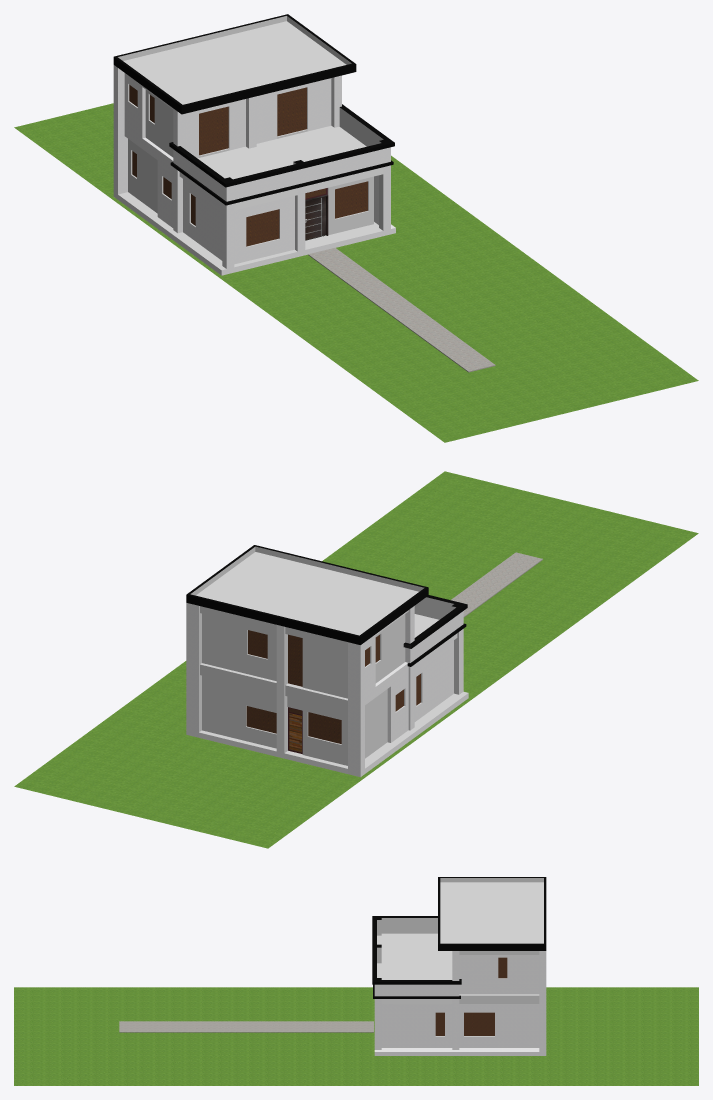
The model's file is abc.glb.
3 renders of one model, top to bottom at view 1: azimuth 30°, elevation 25°; view 2: azimuth 150°, elevation 25°; view 3: azimuth 270°, elevation 25°, orthographic. The views are drawn at different scales.
Parts seen in each view (by area): view 1: 3DGeom-9, 3DGeom-3, 3DGeom-1, 3DGeom-6, 3DGeom-4, 3DGeom-10, 3DGeom-2, 3DGeom-20; view 2: 3DGeom-9, 3DGeom-3, 3DGeom-1, 3DGeom-6, 3DGeom-4, 3DGeom-2, 3DGeom-10; view 3: 3DGeom-9, 3DGeom-1, 3DGeom-3, 3DGeom-10, 3DGeom-6, 3DGeom-4, 3DGeom-2.
Boxes of the visible parts, box(x1,y1,x2,y2) form: 3DGeom-9: box(14, 103, 698, 442); 3DGeom-3: box(118, 16, 383, 270); 3DGeom-1: box(113, 65, 395, 275); 3DGeom-6: box(113, 14, 394, 205); 3DGeom-4: box(129, 85, 367, 246); 3DGeom-10: box(308, 247, 495, 372); 3DGeom-2: box(234, 167, 383, 210); 3DGeom-20: box(305, 197, 326, 240); 3DGeom-9: box(14, 471, 698, 848); 3DGeom-3: box(190, 546, 467, 768); 3DGeom-1: box(186, 603, 468, 777); 3DGeom-6: box(186, 545, 467, 666); 3DGeom-4: box(246, 630, 420, 743); 3DGeom-2: box(199, 625, 347, 773); 3DGeom-10: box(451, 552, 542, 617); 3DGeom-9: box(14, 987, 698, 1085); 3DGeom-1: box(374, 951, 546, 1055); 3DGeom-3: box(377, 878, 543, 1036); 3DGeom-10: box(119, 1021, 373, 1032); 3DGeom-6: box(372, 877, 546, 998); 3DGeom-4: box(435, 957, 507, 1035); 3DGeom-2: box(381, 999, 452, 1003).
Bounding box in the file's own units: 15.01 × 8.01 × 44.07.
Materials: 13 (9 with a texture image).
